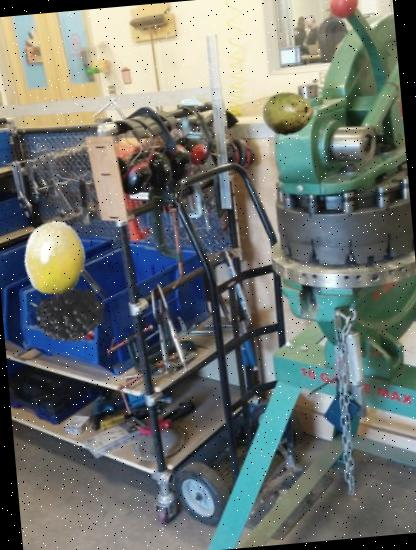Guava: (260, 87, 316, 142)
Maracuja: (13, 218, 98, 303)
Mulberry: (23, 278, 114, 369)
